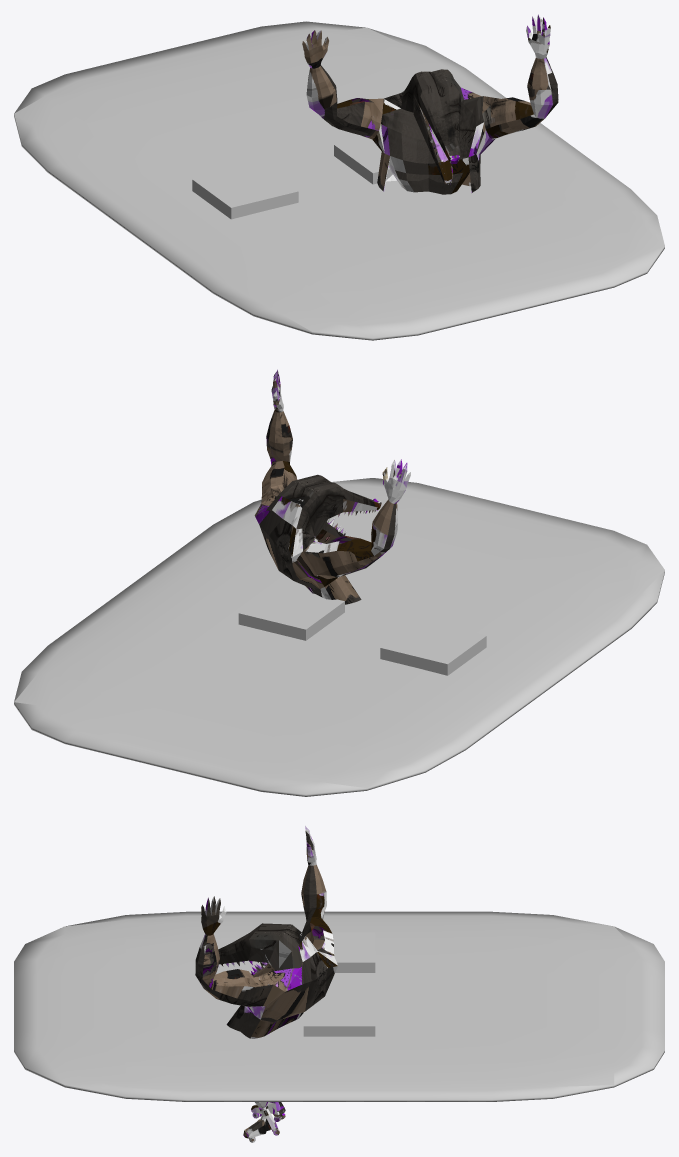
The model's file is cocodrilaBonesSelect_000046.obj.
3 renders of one model, top to bottom at view 1: azimuth 30°, elevation 25°; view 2: azimuth 150°, elevation 25°; view 3: azimuth 270°, elevation 25°, orthographic. The views are drawn at different scales.
Visible parts, largest first — view 1: Mball, Crocodile.002_Cylinder.002, Cube, Cube.001; view 2: Mball, Crocodile.002_Cylinder.002, Cube, Cube.001; view 3: Mball, Crocodile.002_Cylinder.002, Cube.001, Cube.
Part boxes in pixels (x1,y1,x2,y2): Mball: [14, 21, 664, 340]; Crocodile.002_Cylinder.002: [302, 14, 558, 194]; Cube: [192, 163, 298, 219]; Cube.001: [334, 137, 392, 184]; Mball: [14, 478, 664, 796]; Crocodile.002_Cylinder.002: [254, 369, 410, 604]; Cube: [380, 619, 486, 675]; Cube.001: [238, 585, 344, 640]; Mball: [14, 911, 664, 1101]; Crocodile.002_Cylinder.002: [195, 825, 337, 1142]; Cube.001: [303, 996, 375, 1036]; Cube: [332, 932, 375, 972].
Bounding box in the file's own units: 12.42 × 8.48 × 18.18.
